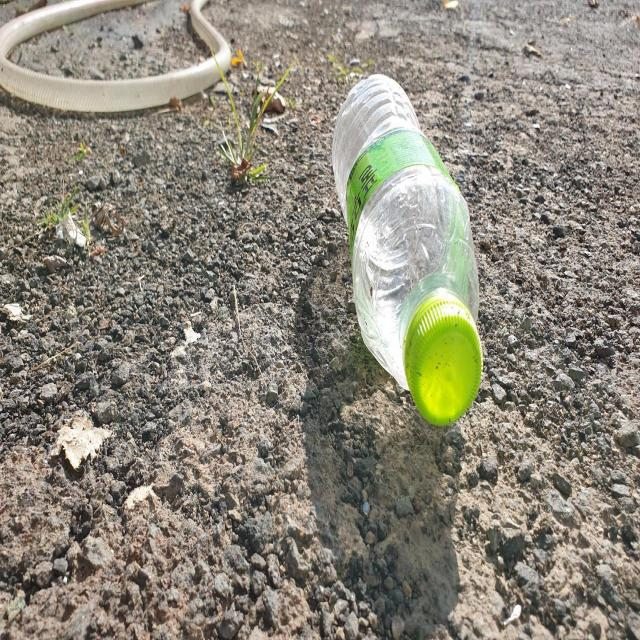plastic: (332, 73, 483, 425)
